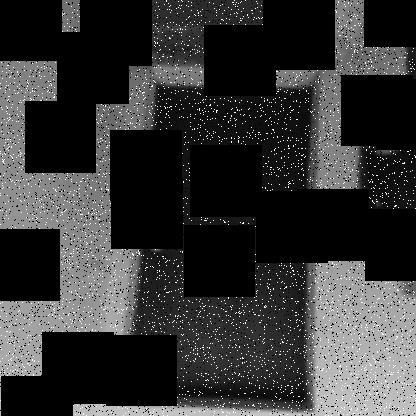Porte: (114, 65, 325, 415)
